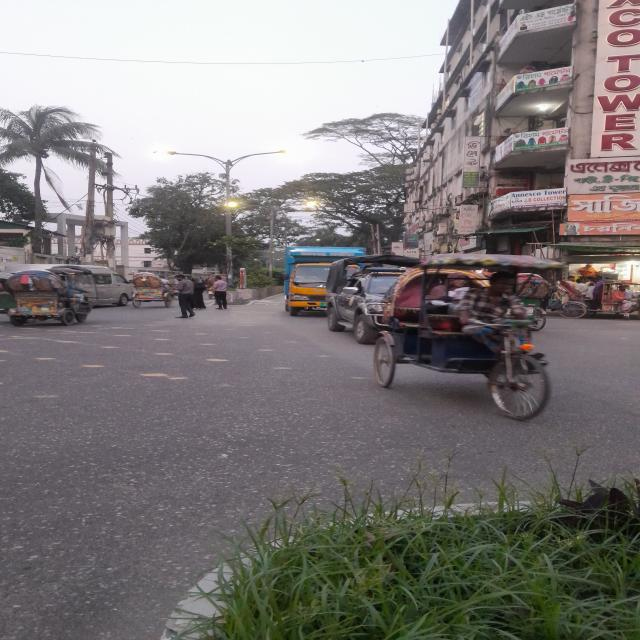person: (174, 274, 195, 319), (212, 275, 227, 310), (192, 278, 206, 310)
